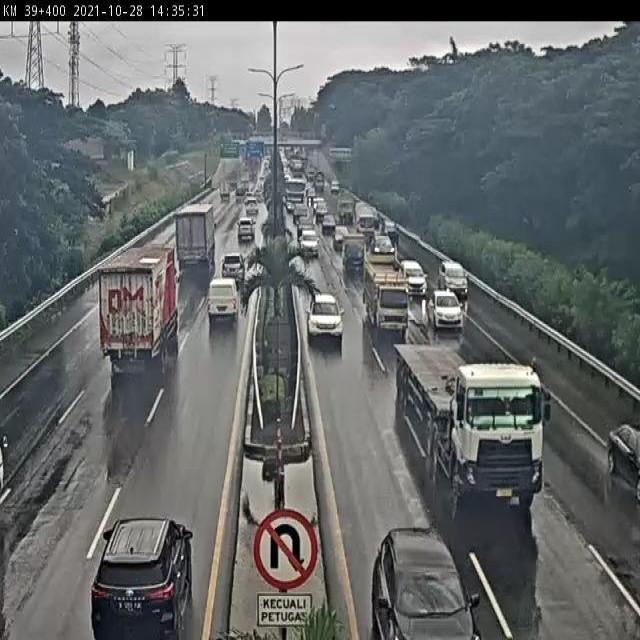big truck: (395, 343, 543, 509), (98, 244, 180, 365), (176, 206, 216, 266), (284, 173, 306, 210)
car: (89, 517, 196, 639), (375, 529, 478, 640), (605, 421, 640, 496), (308, 292, 343, 339), (428, 290, 463, 330), (209, 280, 238, 323), (437, 262, 468, 298), (402, 260, 426, 296), (341, 236, 365, 268), (219, 253, 245, 280), (300, 231, 320, 256), (381, 217, 400, 243), (373, 236, 395, 257), (234, 220, 253, 244), (334, 224, 349, 251), (292, 204, 308, 221), (297, 219, 313, 236), (315, 201, 328, 220), (323, 215, 336, 233), (245, 200, 257, 217)
small truck: (365, 261, 408, 335), (356, 204, 377, 236), (339, 198, 354, 218), (218, 183, 231, 201)
